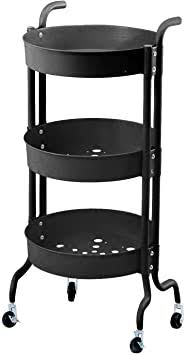Carts: (2, 2, 184, 355)
